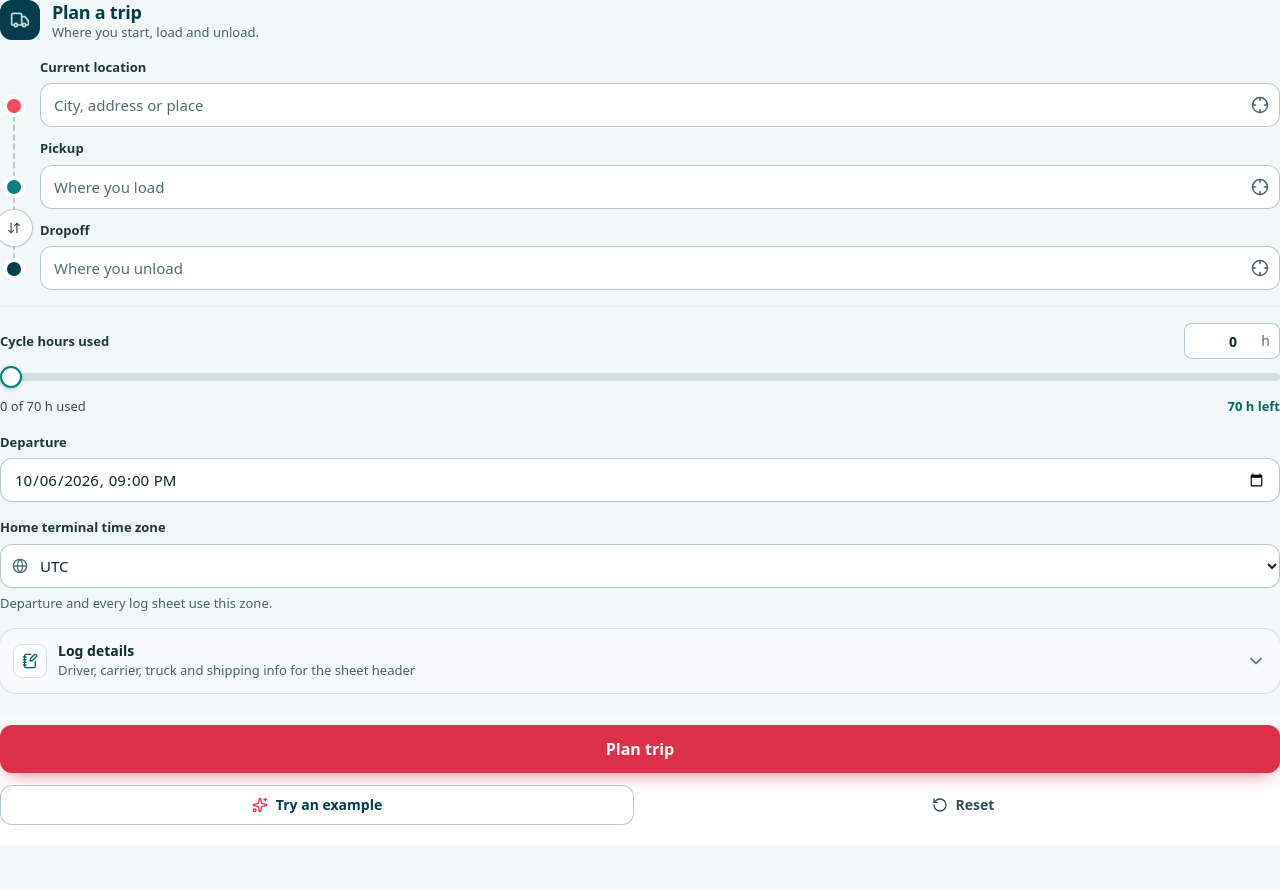
Test: TripForm › example trip › clears earlier errors
This screenshot has width=1280, height=890.
Step 1. Click the button with test id "btn-plan" → [640, 749], box [0,725,1279,773]
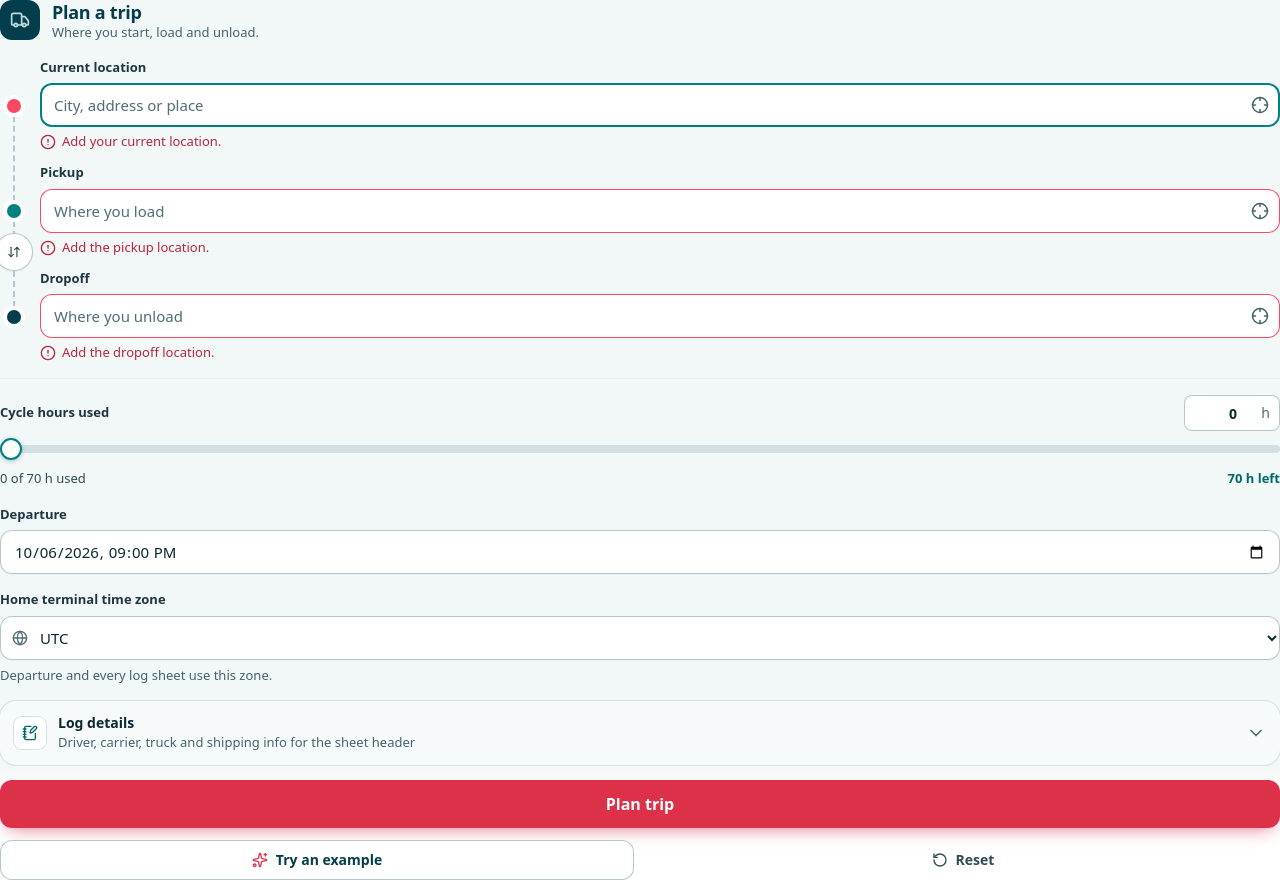
Expected: the message "Add your current location." is shown, [40,132,221,150]
Step 2. Click the button with test id "btn-example" → [317, 860], box [0,840,634,880]
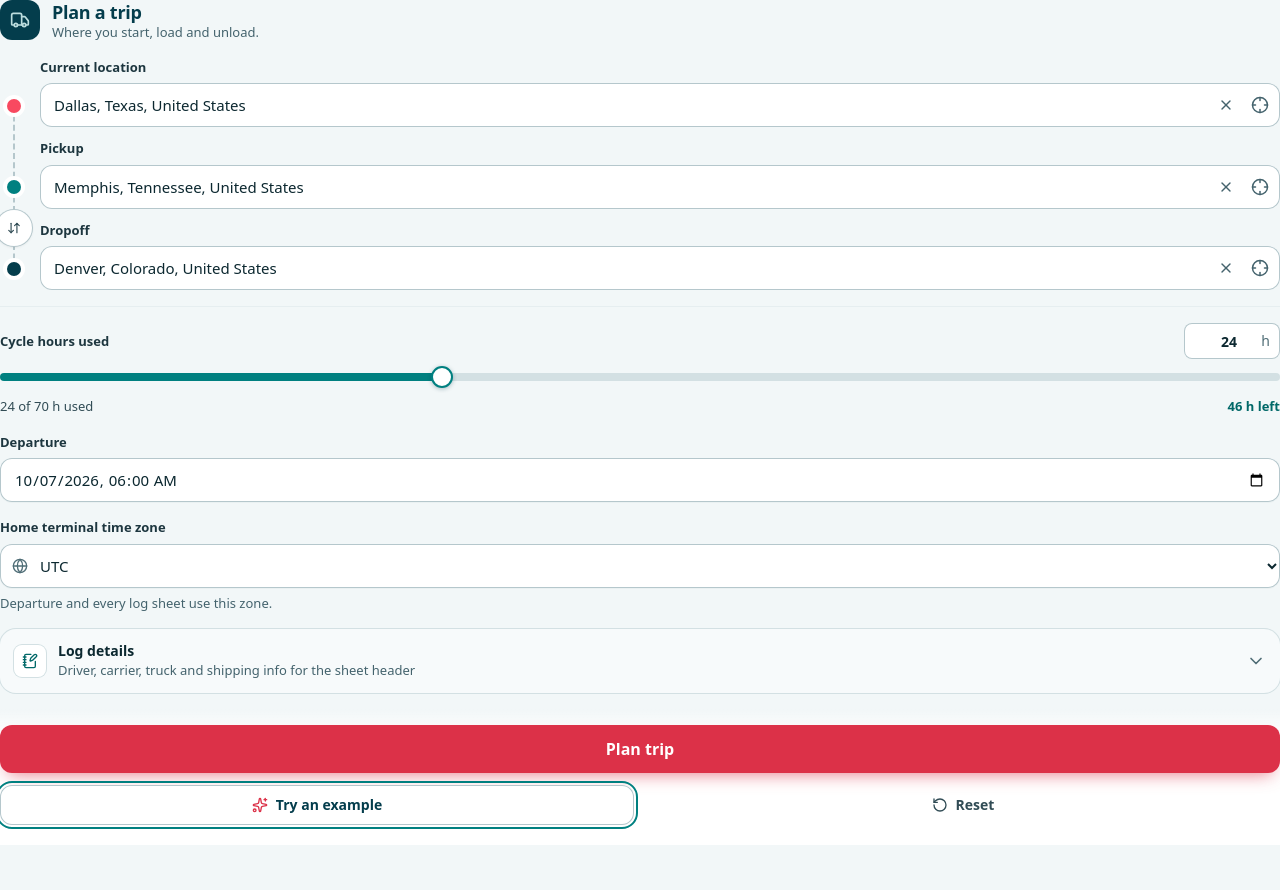
Expected: the message with test id "form-error-current" is gone
